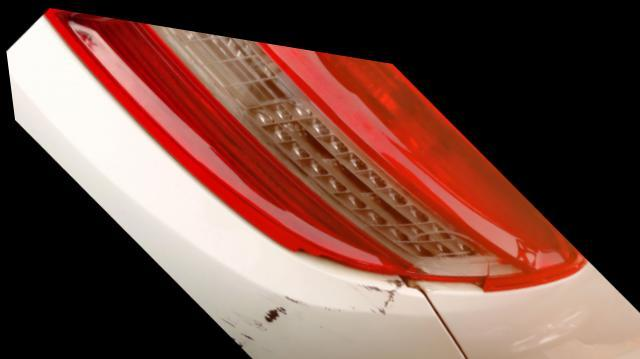lamp broken: (40, 6, 584, 278)
scratch: (222, 266, 398, 359)
